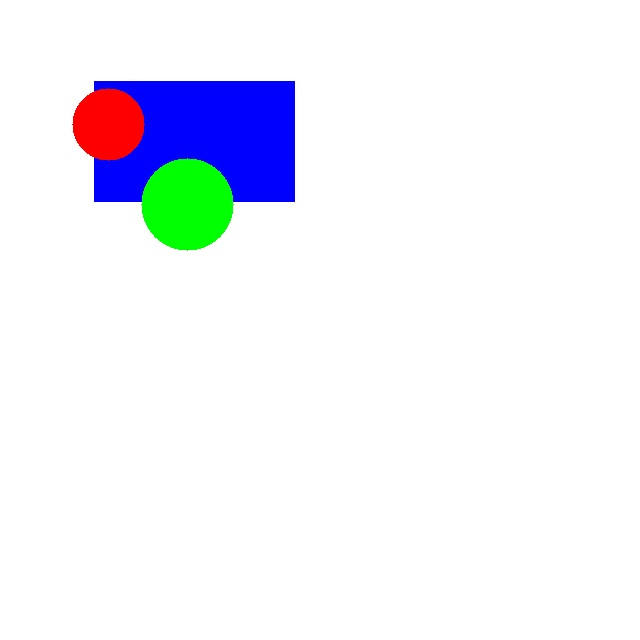cartao: (94, 81, 294, 201)
rosca_externa: (141, 158, 233, 250)
rosca_interna: (72, 88, 144, 160)
